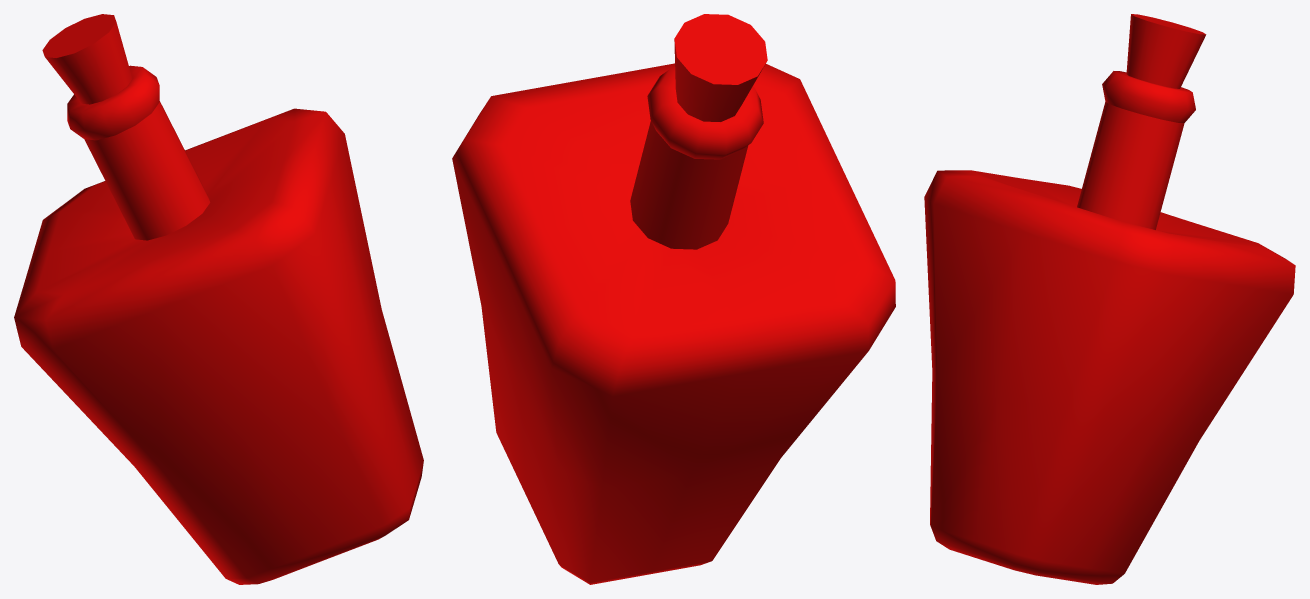
Rendered from Potions_01.fbx.
The picture shows the model from 3 angles, left to right: view 1: azimuth 30°, elevation 25°; view 2: azimuth 150°, elevation 25°; view 3: azimuth 270°, elevation 25°; orthographic projection. The views are drawn at different scales.
Parts seen in each view (by area): view 1: Potion_01; view 2: Potion_01; view 3: Potion_01.
Boxes of the visible parts, x1,y1,x2,y2 form: Potion_01: (14, 14, 423, 584); Potion_01: (452, 14, 895, 584); Potion_01: (924, 14, 1295, 584).
Size of the model in its own units: 0.3908 by 0.3675 by 0.553.
